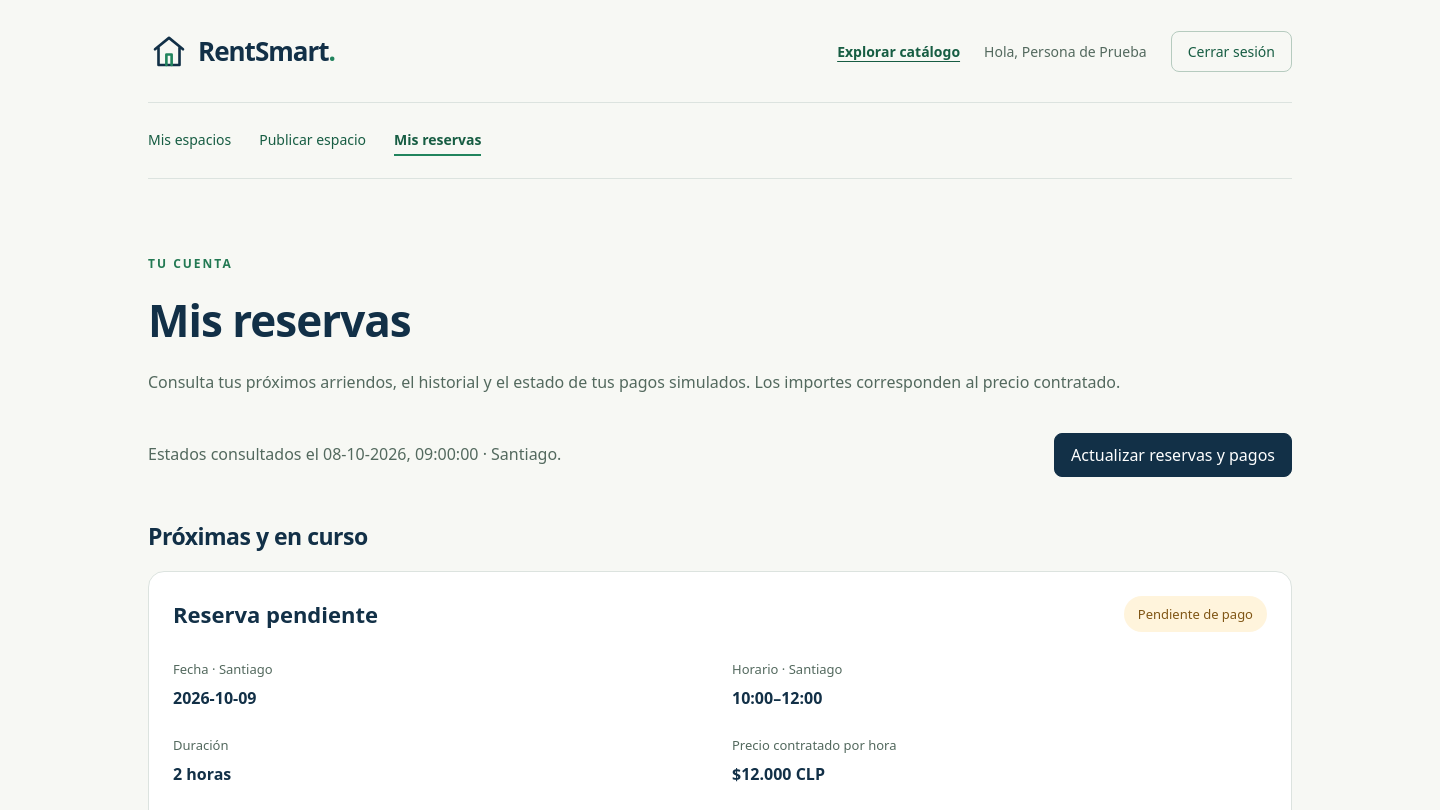
Scenario: HU13: refresca estados efectivos y plazos con la respuesta del backend sin deducirlos del reloj local
Click the button "Actualizar reservas y pagos". click: (1173, 455)
box: [1054,433,1292,477]
(page scrolled)
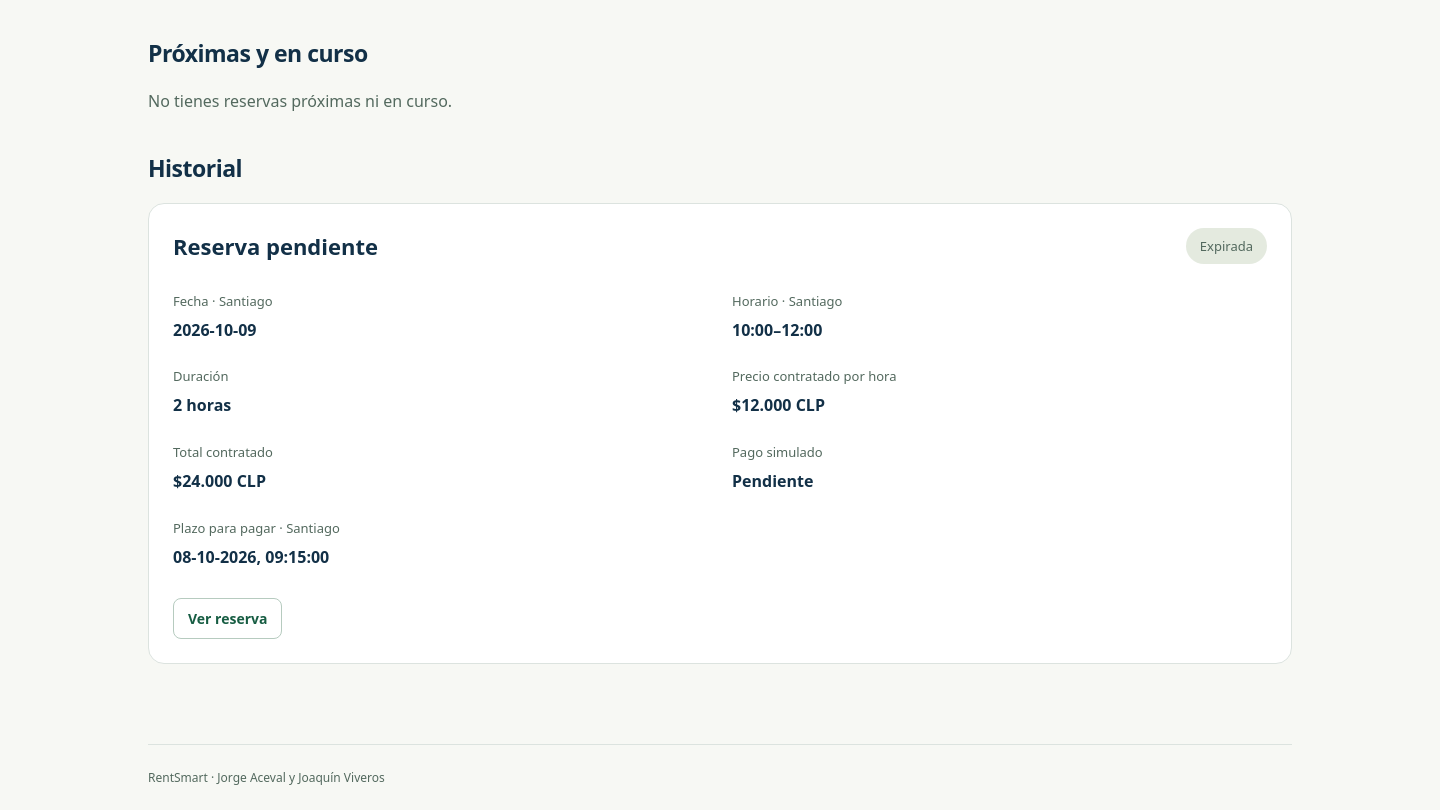
Expected: the element that starts with "Reserva pendiente" is shown, [148,203,1292,664]
Expected: the text "Expirada" is shown, [1186,228,1267,264]
